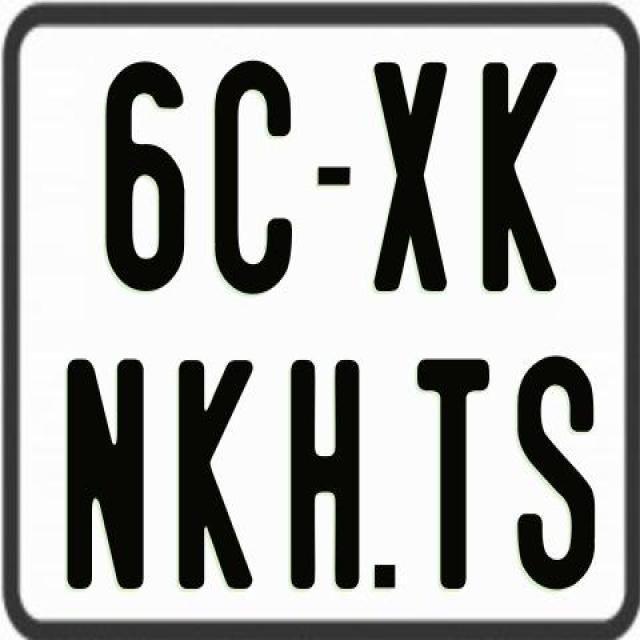6: (102, 59, 188, 298)
C: (212, 59, 296, 296)
H: (288, 360, 358, 592)
K: (478, 58, 554, 292), (174, 355, 250, 587)
N: (65, 353, 147, 584)
S: (517, 356, 600, 590)
T: (417, 358, 495, 598)
X: (370, 61, 446, 300)
